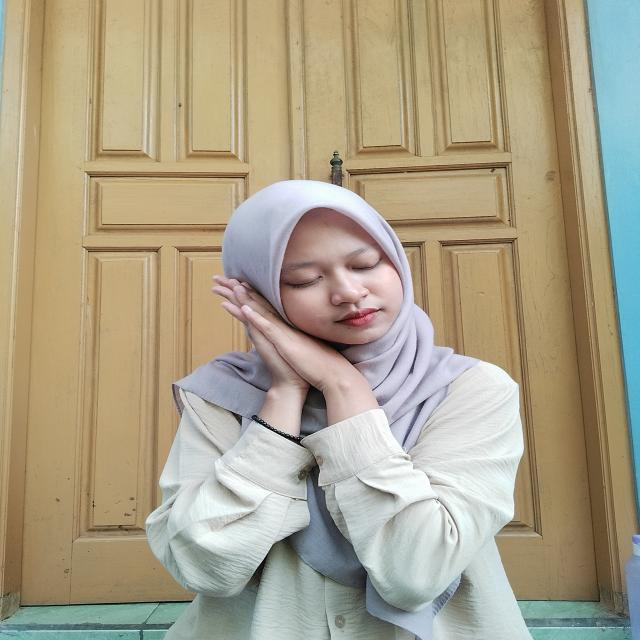tidur: (198, 270, 388, 446)
